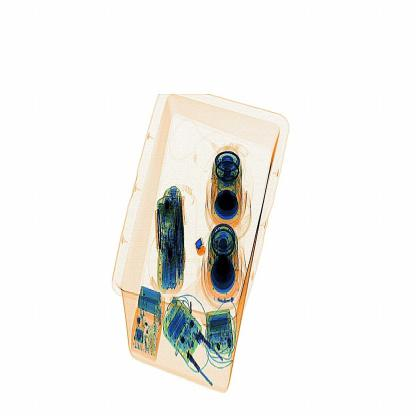wrench: (186, 226, 212, 259)
